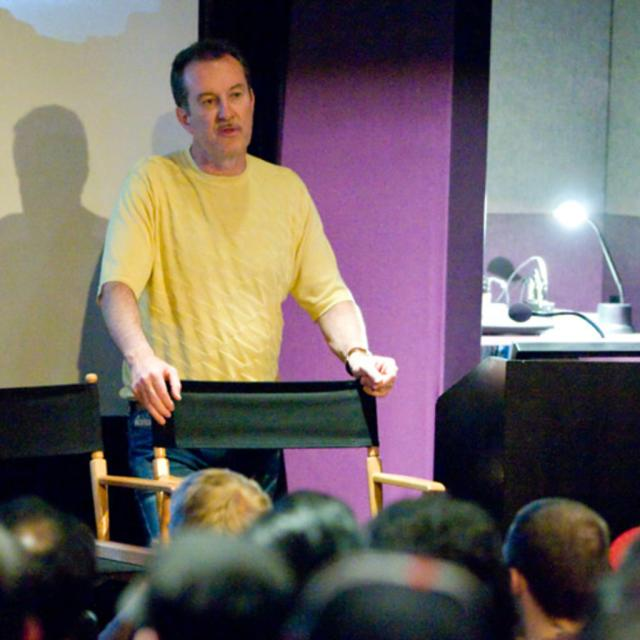no_helmet: (252, 480, 400, 560), (140, 454, 288, 534), (2, 500, 150, 580), (138, 532, 286, 612), (327, 536, 475, 616), (482, 489, 630, 569), (374, 486, 522, 566), (167, 34, 252, 72)
